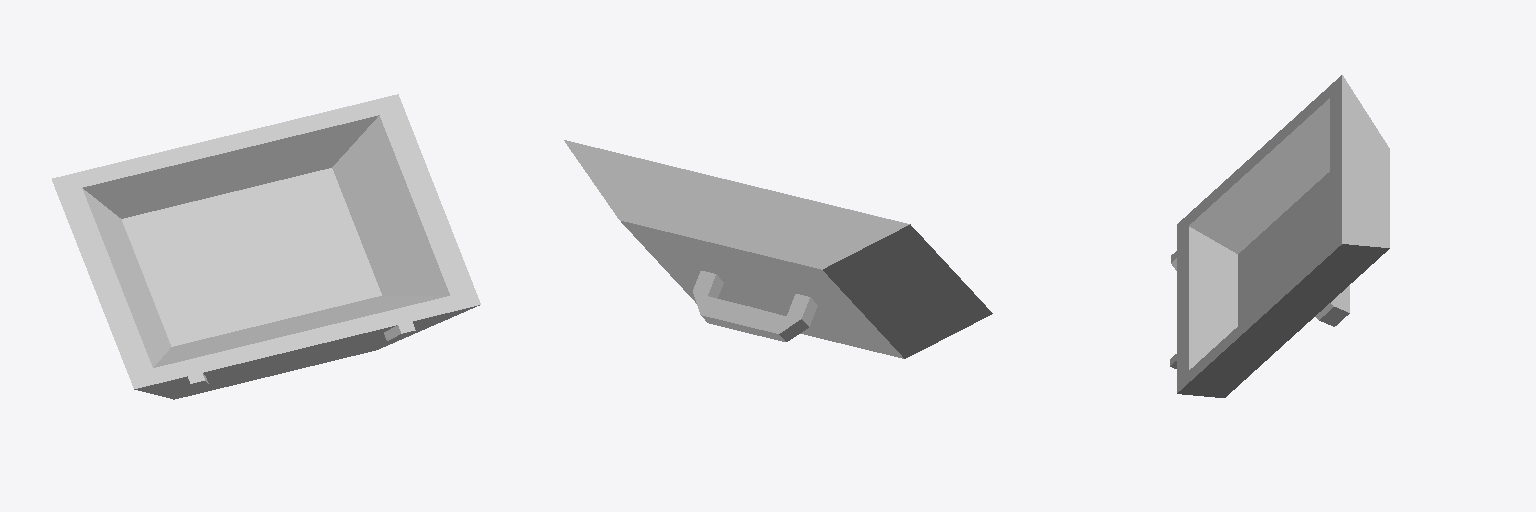
The model's file is GoalCap.obj.
3 renders of one model, left to right at view 1: azimuth 30°, elevation 25°; view 2: azimuth 150°, elevation 25°; view 3: azimuth 270°, elevation 25°, orthographic.
Visible parts, largest first — view 1: Deckel_Cube.001; view 2: Deckel_Cube.001; view 3: Deckel_Cube.001.
Boxes of the visible parts, x1=… form: Deckel_Cube.001: x1=52, y1=94, x2=480, y2=399; Deckel_Cube.001: x1=564, y1=140, x2=992, y2=358; Deckel_Cube.001: x1=1170, y1=75, x2=1389, y2=397.
Size of the model in its own units: 1.71 by 0.912 by 0.9417.